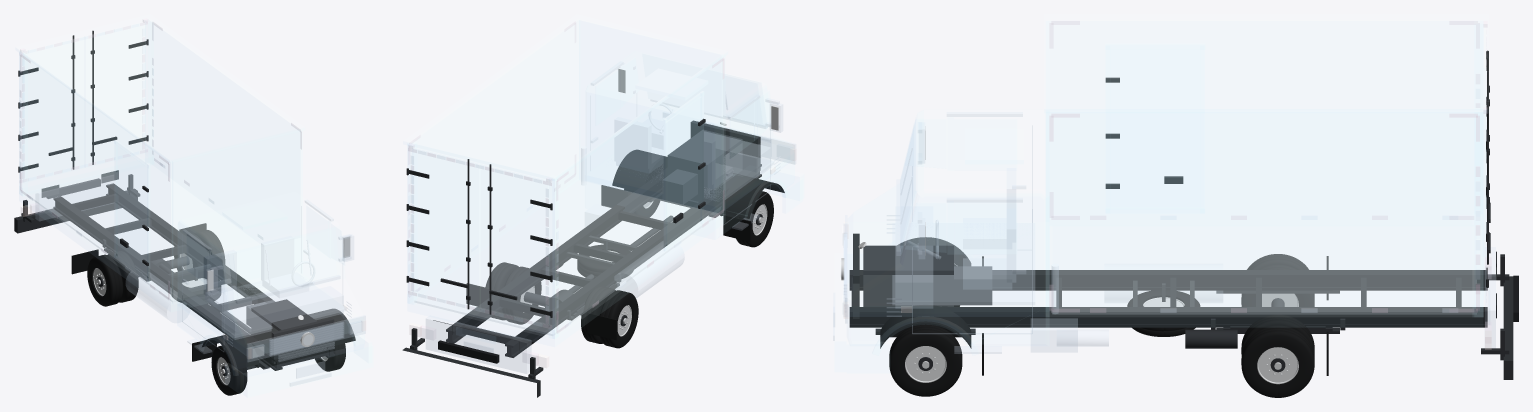
File: mb_710_hac_raiox.glb
3 views of the same model, side by side, from view 1: azimuth 30°, elevation 25°; view 2: azimuth 150°, elevation 25°; view 3: azimuth 270°, elevation 25° (orthographic). The views are drawn at different scales.
Visible parts, largest first — view 1: Floor, Tire (×6), Rail_Flange_Top (×2), Cab_Floor, Dashboard, Crossmember (×7), Seat_Back (×2), Rail_Web (×2), Wheel_Arch_Liner (×2), Radiator, Engine, Grille_Band (+9 smaller); view 2: Floor, Rail_Flange_Top (×2), Tire (×6), Engine, Rear_Panel, Crossmember (×6), Wheel_Arch_Liner (×2), Rail_Web (×2), Mud_Flap (×4), Dashboard, Seat_Back (×2), Fuel_Tank (+7 smaller); view 3: Floor, Rail_Web (×2), Tire (×6), Rail_Flange_Top (×2), Cab_Floor, Engine, Rail_Flange_Bottom (×2), Dashboard, Seat_Base (×2), Wheel_Arch_Liner (×2), Rim_Barrel (×2), Battery_Box (+8 smaller).
Boxes of the visible parts, x1=… form: Floor: x1=27, y1=163, x2=260, y2=301; Tire (×6): x1=87, y1=230, x2=345, y2=395; Rail_Flange_Top (×2): x1=53, y1=183, x2=335, y2=361; Cab_Floor: x1=185, y1=273, x2=345, y2=337; Dashboard: x1=222, y1=286, x2=343, y2=339; Crossmember (×7): x1=46, y1=178, x2=328, y2=366; Seat_Back (×2): x1=204, y1=236, x2=293, y2=295; Rail_Web (×2): x1=55, y1=188, x2=333, y2=369; Wheel_Arch_Liner (×2): x1=202, y1=308, x2=355, y2=370; Radiator: x1=271, y1=318, x2=334, y2=363; Engine: x1=251, y1=299, x2=316, y2=349; Grille_Band: x1=247, y1=315, x2=365, y2=361; Floor: x1=415, y1=180, x2=717, y2=335; Rail_Flange_Top (×2): x1=446, y1=164, x2=761, y2=347; Tire (×6): x1=485, y1=191, x2=773, y2=348; Engine: x1=667, y1=129, x2=742, y2=201; Rear_Panel: x1=426, y1=315, x2=531, y2=373; Crossmember (×6): x1=438, y1=211, x2=669, y2=363; Wheel_Arch_Liner (×2): x1=612, y1=149, x2=784, y2=218; Rail_Web (×2): x1=448, y1=171, x2=759, y2=356; Mud_Flap (×4): x1=466, y1=185, x2=751, y2=340; Dashboard: x1=643, y1=119, x2=770, y2=177; Seat_Back (×2): x1=615, y1=117, x2=714, y2=184; Fuel_Tank: x1=615, y1=242, x2=684, y2=297; Floor: x1=1052, y1=225, x2=1476, y2=314; Rail_Web (×2): x1=849, y1=277, x2=1487, y2=323; Tire (×6): x1=889, y1=254, x2=1314, y2=397; Rail_Flange_Top (×2): x1=849, y1=270, x2=1487, y2=314; Cab_Floor: x1=893, y1=223, x2=1034, y2=304; Engine: x1=863, y1=245, x2=953, y2=306; Rail_Flange_Bottom (×2): x1=849, y1=287, x2=1487, y2=327; Dashboard: x1=895, y1=206, x2=932, y2=307; Seat_Base (×2): x1=963, y1=218, x2=1011, y2=289; Wheel_Arch_Liner (×2): x1=880, y1=237, x2=971, y2=348; Rim_Barrel (×2): x1=906, y1=346, x2=1297, y2=382; Battery_Box: x1=1031, y1=318, x2=1077, y2=352.
Bounding box in the file's own units: 2.55 × 3.45 × 7.2.
